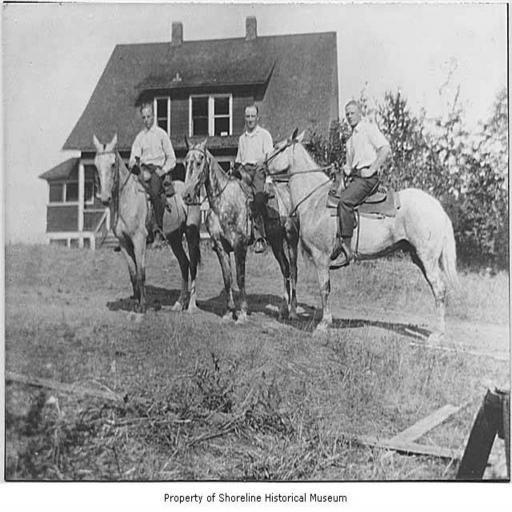horse: (253, 124, 464, 346), (178, 132, 300, 326), (91, 130, 205, 322)
